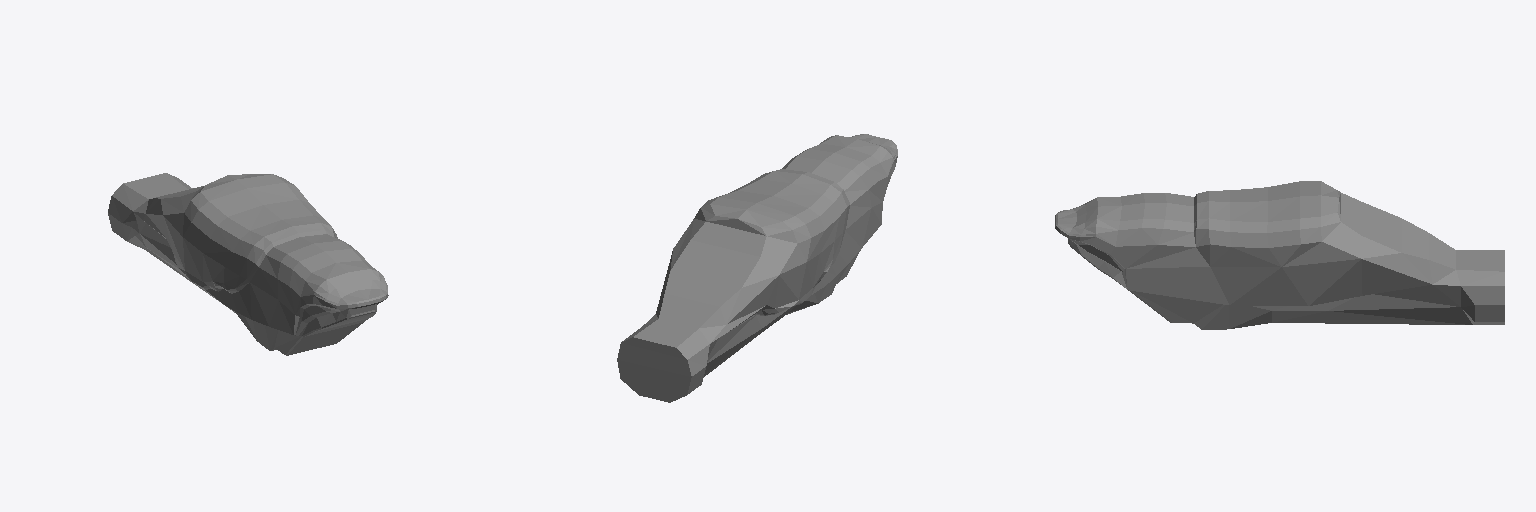
Rendered from body1.obj.
3 renders of one model, left to right at view 1: azimuth 30°, elevation 25°; view 2: azimuth 150°, elevation 25°; view 3: azimuth 270°, elevation 25°, orthographic.
Parts seen in each view (by area): view 1: body1; view 2: body1; view 3: body1.
Boxes of the visible parts, <box> form: body1: <box>108,173,388,355</box>; body1: <box>617,134,897,402</box>; body1: <box>1055,181,1504,329</box>.
Bounding box in the file's own units: 7.54 × 7.86 × 26.17.